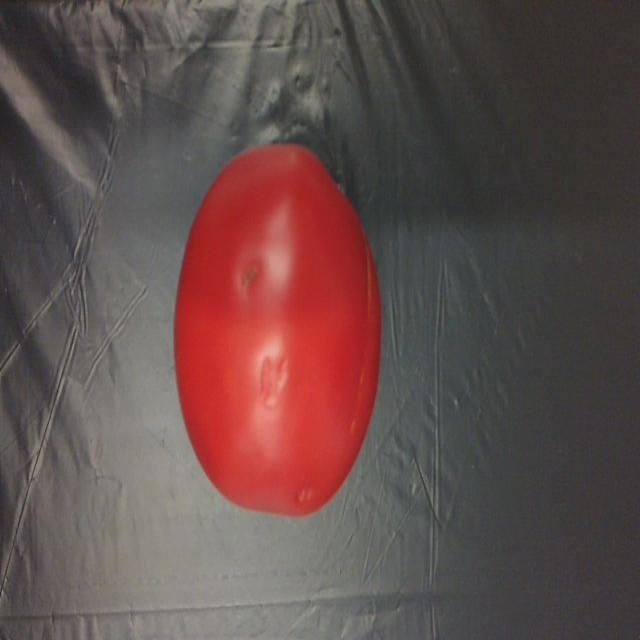kirmizi: (164, 131, 390, 539)
